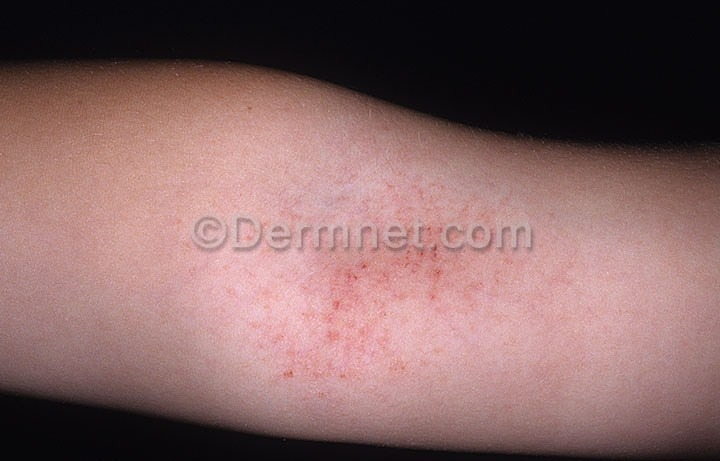Eczema: (170, 107, 633, 428)
